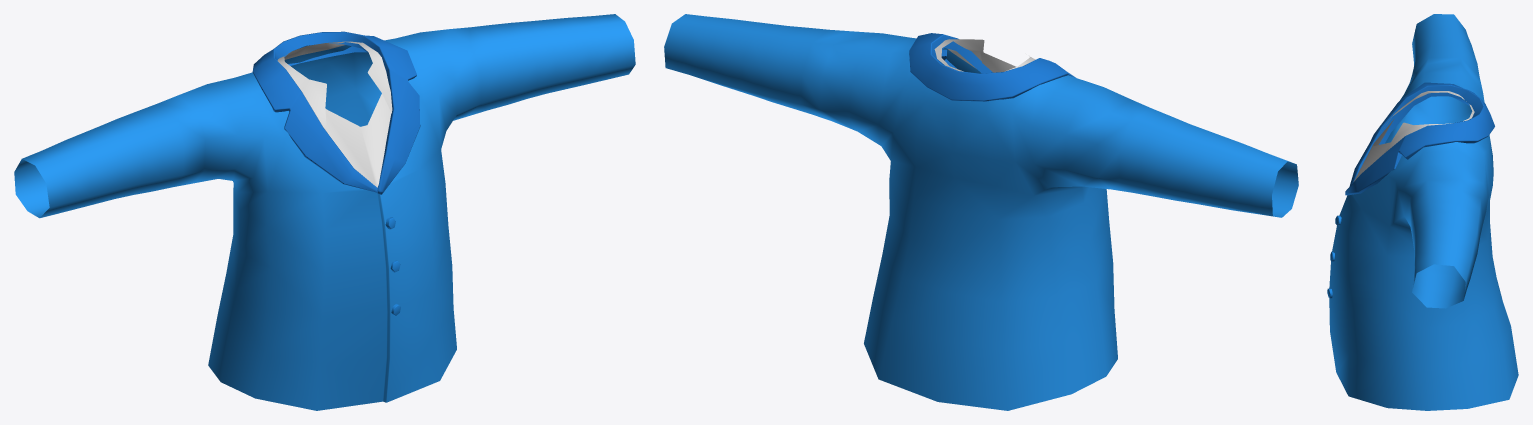
File: Outerwear_Blue_010.glb
3 renders of one model, left to right at view 1: azimuth 30°, elevation 25°; view 2: azimuth 150°, elevation 25°; view 3: azimuth 270°, elevation 25°, orthographic. The views are drawn at different scales.
Visible parts, largest first — view 1: Outerwear_Blue_010; view 2: Outerwear_Blue_010; view 3: Outerwear_Blue_010.
Part boxes in pixels (left/top/right/bottom): Outerwear_Blue_010: left=14, top=14, right=635, bottom=410; Outerwear_Blue_010: left=664, top=14, right=1298, bottom=410; Outerwear_Blue_010: left=1327, top=14, right=1518, bottom=410.
Size of the model in its own units: 1.29 by 0.6477 by 0.4144.
Materials: 1 (1 with a texture image).
